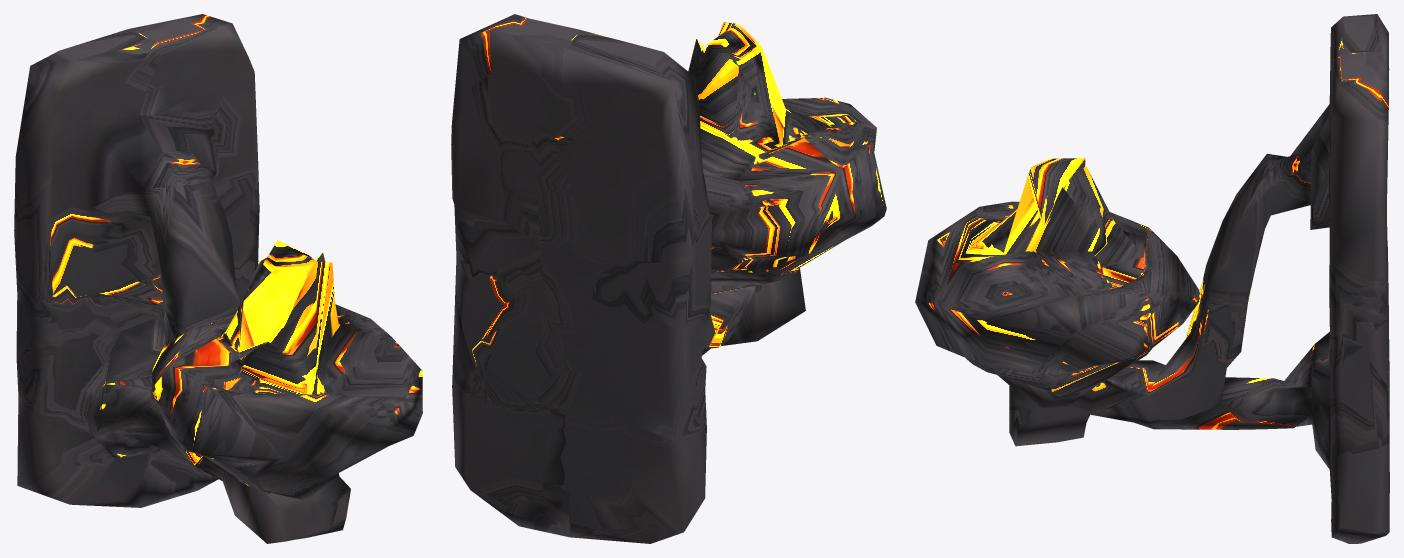
The model's file is fg_torch-Dv0qJ7C7.glb.
3 renders of one model, left to right at view 1: azimuth 30°, elevation 25°; view 2: azimuth 150°, elevation 25°; view 3: azimuth 270°, elevation 25°, orthographic. The views are drawn at different scales.
Parts seen in each view (by area): view 1: tripo_node_effecdfd-8add-491b-ae80-1fd055d8e800; view 2: tripo_node_effecdfd-8add-491b-ae80-1fd055d8e800; view 3: tripo_node_effecdfd-8add-491b-ae80-1fd055d8e800.
Boxes of the visible parts, x1,y1,x2,y2 form: tripo_node_effecdfd-8add-491b-ae80-1fd055d8e800: (14,14,422,543); tripo_node_effecdfd-8add-491b-ae80-1fd055d8e800: (451,14,886,543); tripo_node_effecdfd-8add-491b-ae80-1fd055d8e800: (915,14,1389,543).
Bounding box in the file's own units: 0.4987 × 0.95 × 0.8763.
1 material, 1 textured.
